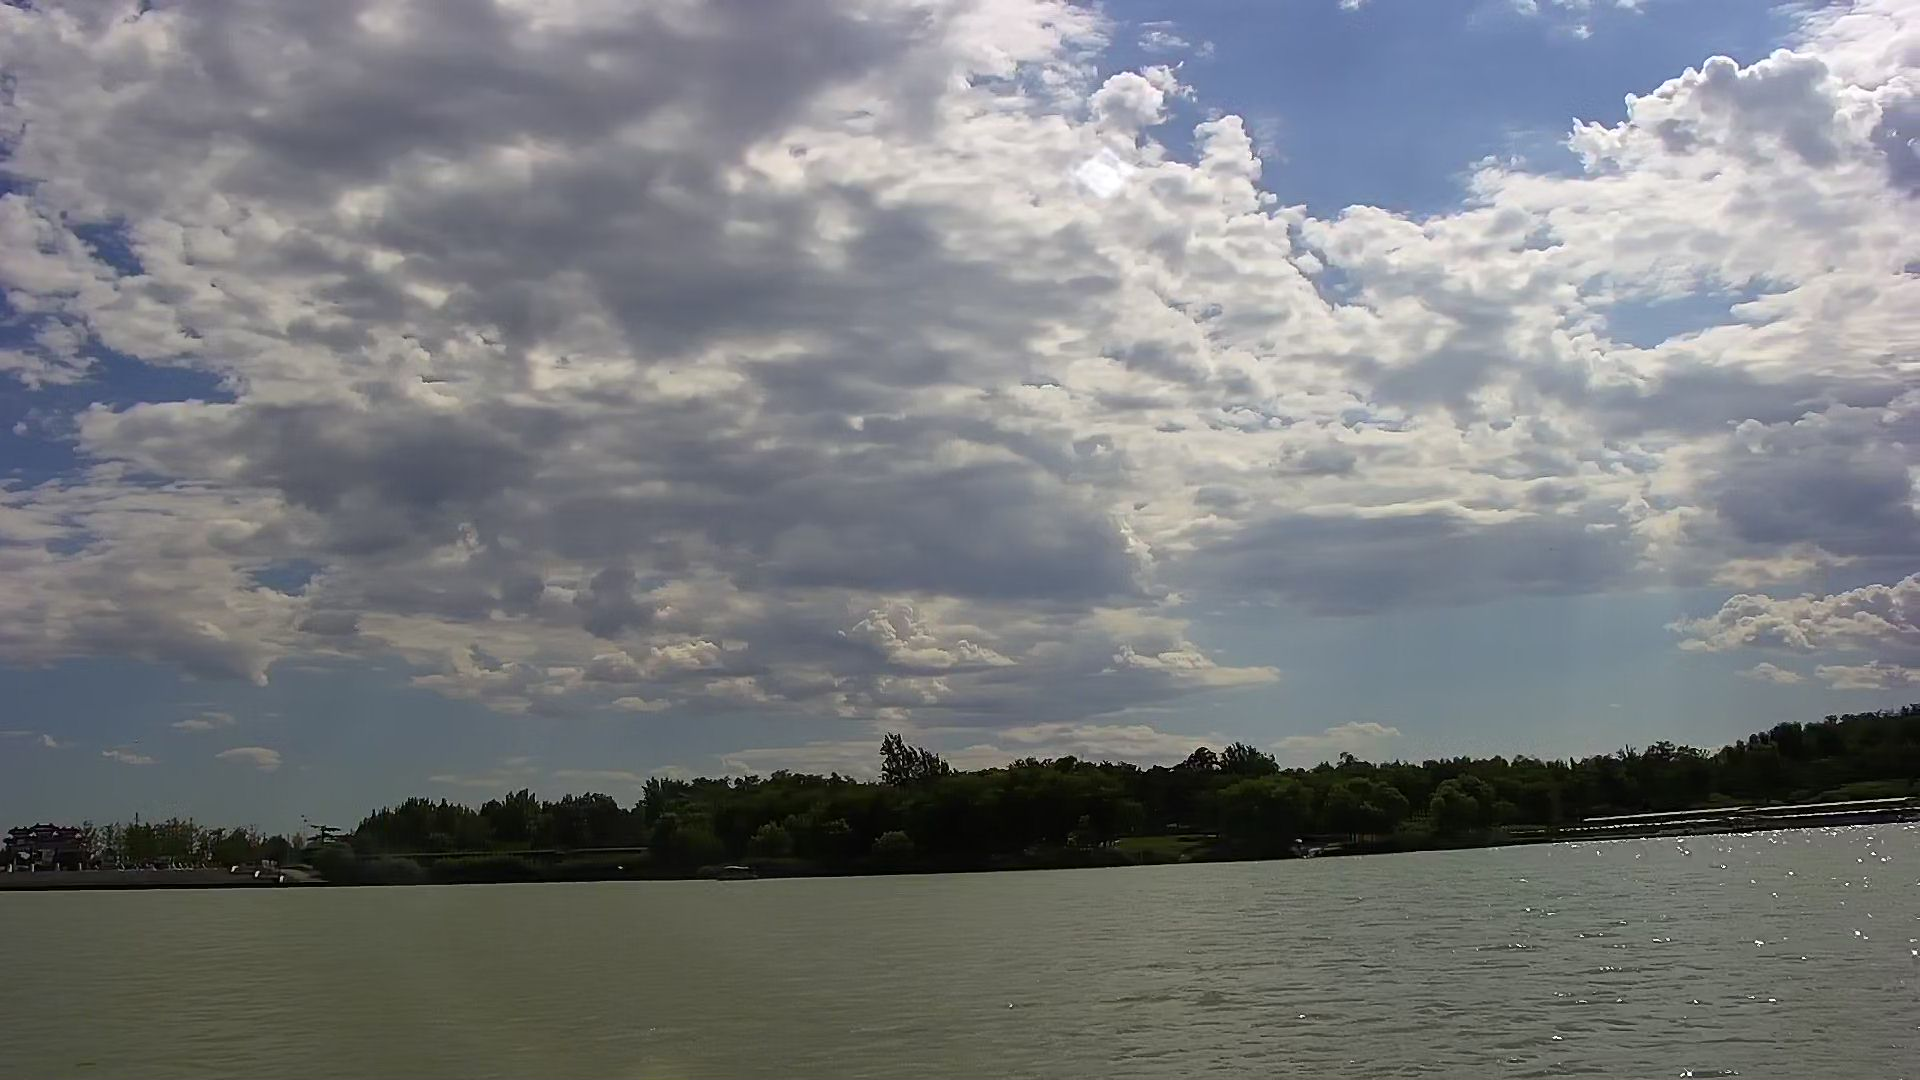harbor: (1543, 796, 1920, 843)
